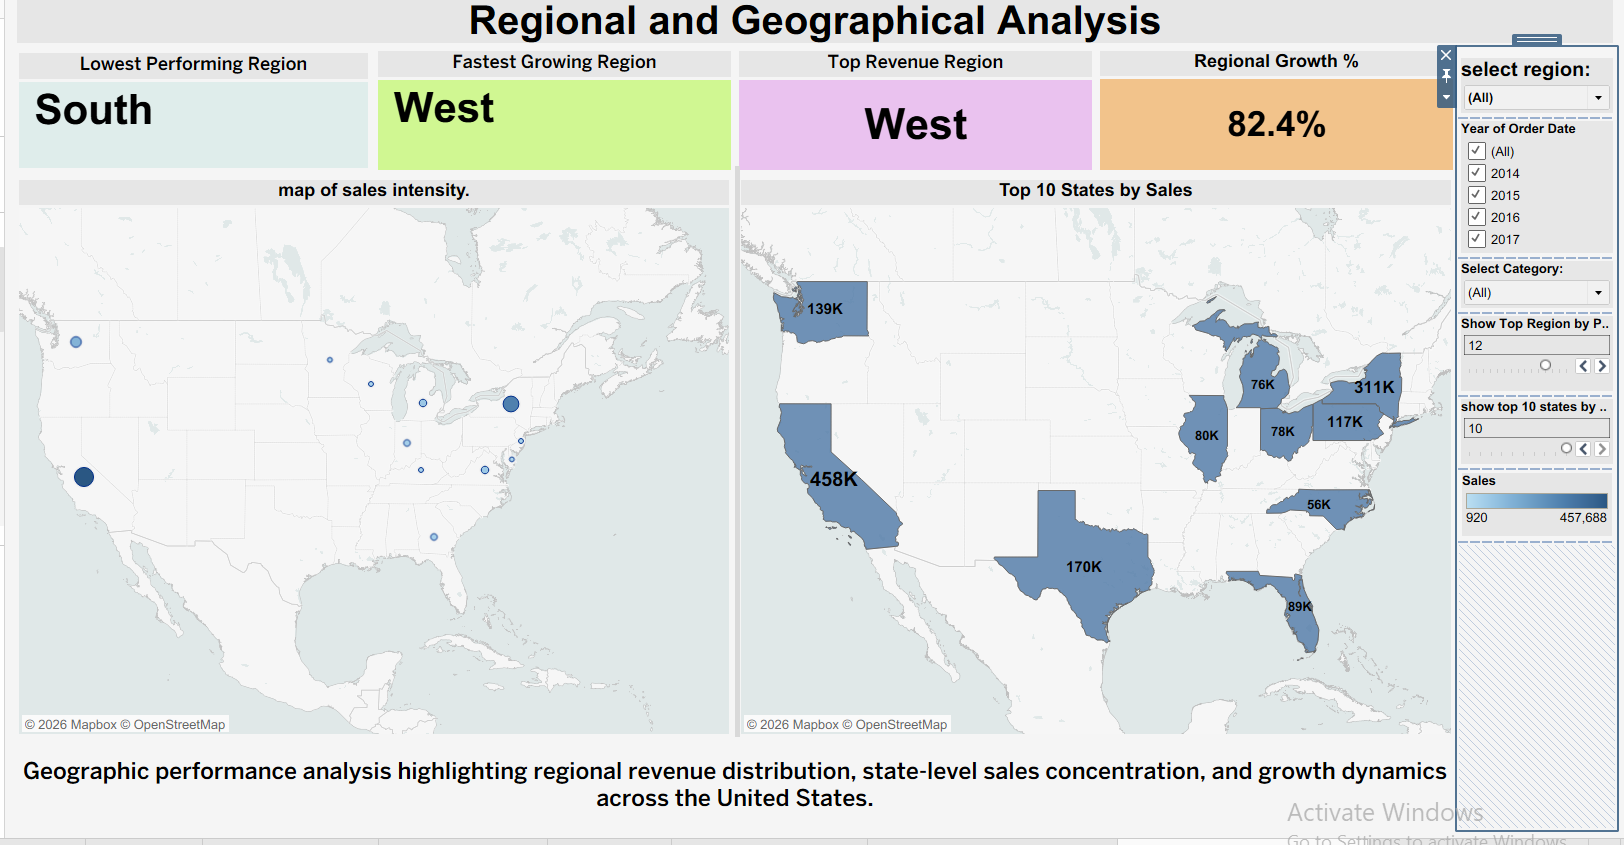

The dashboard page shown, as its layout file describes it:
{"tool":"tableau","page":{"name":"Regional and Geographical Analysis","canvas":[1000,1000],"units":"permille","ordinal":3},"visuals":[{"type":"title","box":[4.9,9.4,990.1,62.2]},{"type":"worksheet","title":"Lowest Region by Sales","mark":"Text","box":[4.9,71.6,222.8,149.1]},{"type":"worksheet","title":"Highest Growing Region ","mark":"Text","box":[227.8,71.6,222.8,149.1]},{"type":"worksheet","title":"Top Region by Sales","mark":"Automatic","box":[450.6,71.6,222.8,149.1]},{"type":"worksheet","title":"Regional Growth %","mark":"Text","box":[673.4,71.6,222.8,149.1]},{"type":"filter","title":"top 10 statesby sales","param":"[federated.18dnule1kxufxl17i8oe21v73u3z].[none:Region:nk]","box":[896.3,79.8,98.8,73.9]},{"type":"filter","title":"map of sales intensity.","param":"[federated.18dnule1kxufxl17i8oe21v73u3z].[yr:Order Date:ok]","box":[896.3,153.8,98.8,164.3]},{"type":"blank","box":[450.6,210.8,3.1,670.7]},{"type":"worksheet","title":"map of sales intensity.","mark":"Automatic","box":[4.9,220.7,445.7,664.7]},{"type":"worksheet","title":"top 10 statesby sales","mark":"Multipolygon","box":[450.6,220.7,445.7,664.7]},{"type":"filter","title":"map of sales intensity.","param":"[federated.18dnule1kxufxl17i8oe21v73u3z].[none:Category:nk]","box":[896.3,318.1,98.8,64.5]},{"type":"parameter","param":"[Parameters].[Parameter 1]","box":[896.3,382.6,98.8,97.4]},{"type":"parameter","param":"[Parameters].[Parameter 3]","box":[896.3,480.1,98.8,85.7]},{"type":"legend","title":"map of sales intensity.","param":"[federated.18dnule1kxufxl17i8oe21v73u3z].[sum:Sales:qk]","box":[896.3,565.7,98.8,85.7]},{"type":"text","box":[4.9,885.3,891.4,105.3]}]}

Visuals, with their boxes on the dashboard's canvas, which has no fixed pixel size, in thousandths of its width and height (x1, y1, x2, y2). These are canvas units, not pixel positions in the 1624x845 screenshot, which may show the page scaled, cropped or inside an application window:
title: 5 9 995 72
"Lowest Region by Sales" worksheet (Text marks): 5 72 228 221
"Highest Growing Region " worksheet (Text marks): 228 72 451 221
"Top Region by Sales" worksheet: 451 72 673 221
"Regional Growth %" worksheet (Text marks): 673 72 896 221
"top 10 statesby sales" filter: 896 80 995 154
"map of sales intensity." filter: 896 154 995 318
blank: 451 211 454 882
"map of sales intensity." worksheet: 5 221 451 885
"top 10 statesby sales" worksheet (Multipolygon marks): 451 221 896 885
"map of sales intensity." filter: 896 318 995 383
parameter: 896 383 995 480
parameter: 896 480 995 566
"map of sales intensity." legend: 896 566 995 651
text: 5 885 896 991
